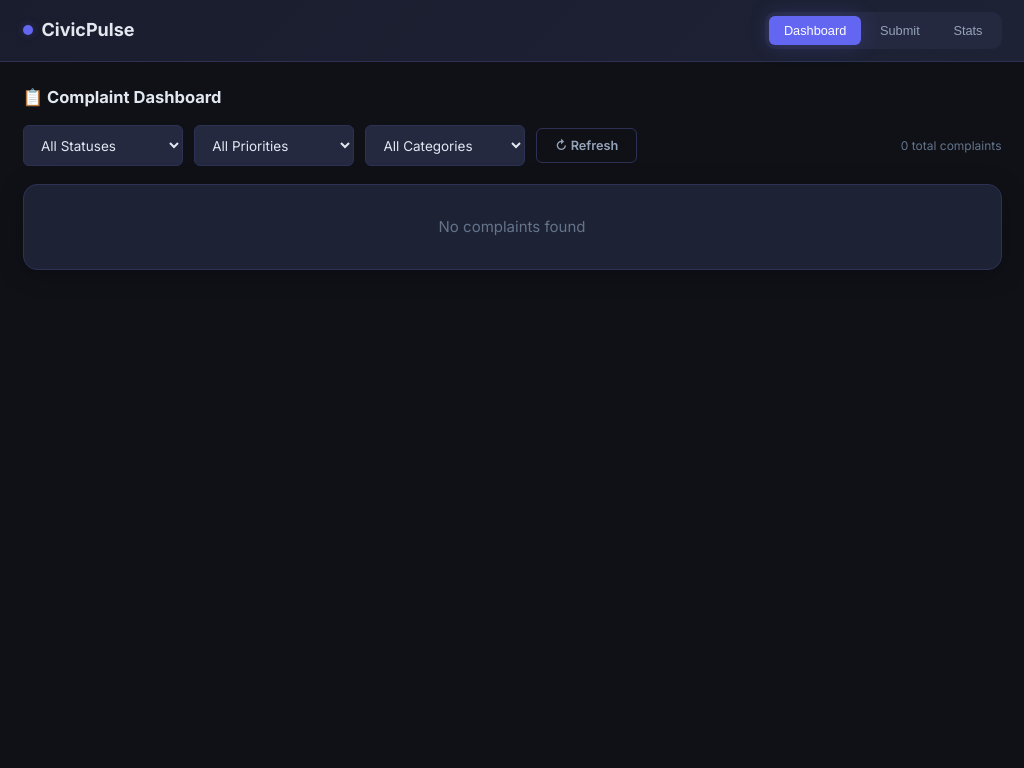
Test: App › renders header and navigates between tabs
Expected: the text "CivicPulse" is shown, [22,16,134,45]
Expected: the button "Dashboard" is shown, [769,16,861,44]
// Switch to Submit
Click the button "Submit" at (900, 30), box [865,16,935,44]
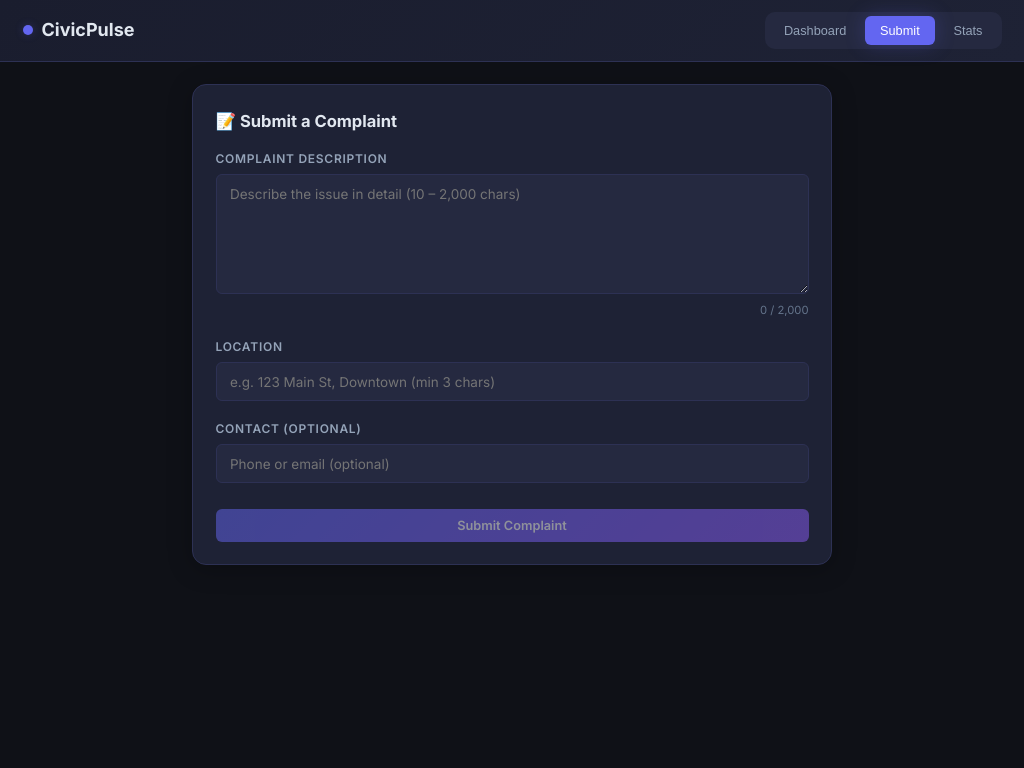
Expected: the text box labelled "Complaint Description" is shown, [216,174,808,294]
// Switch to Stats
Click the button "Stats" at (968, 30), box [938,16,998,44]
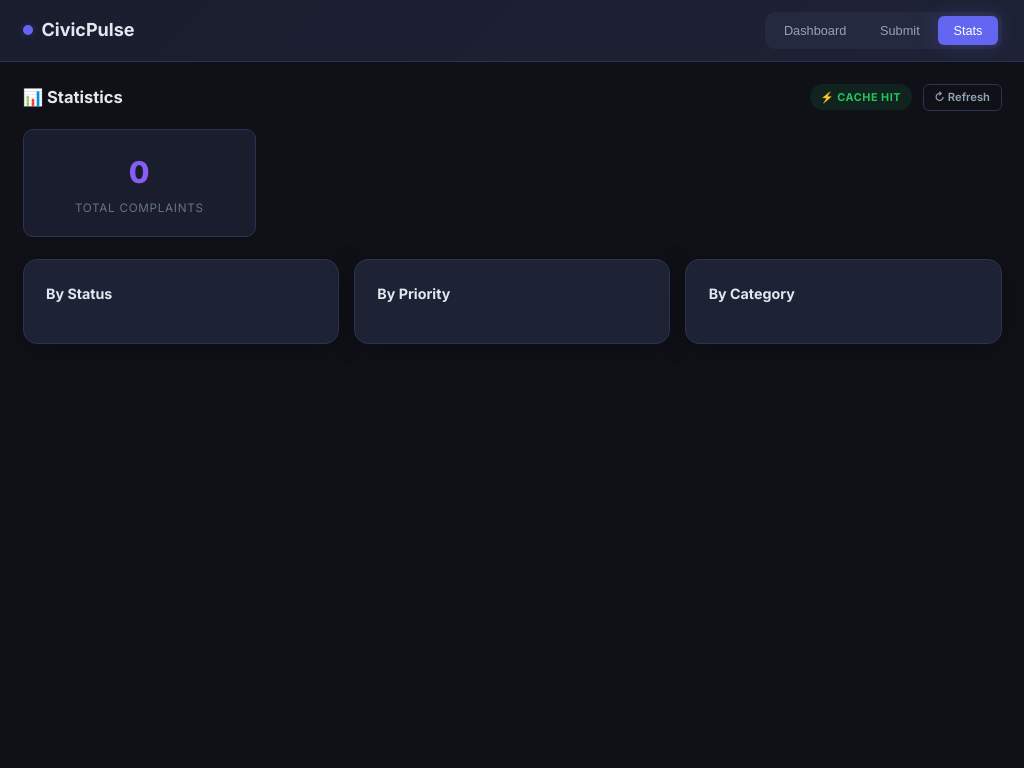
Expected: the text "Total Complaints" is shown, [75,201,204,215]
